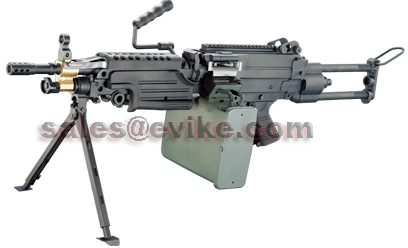rifle: (4, 15, 381, 229)
